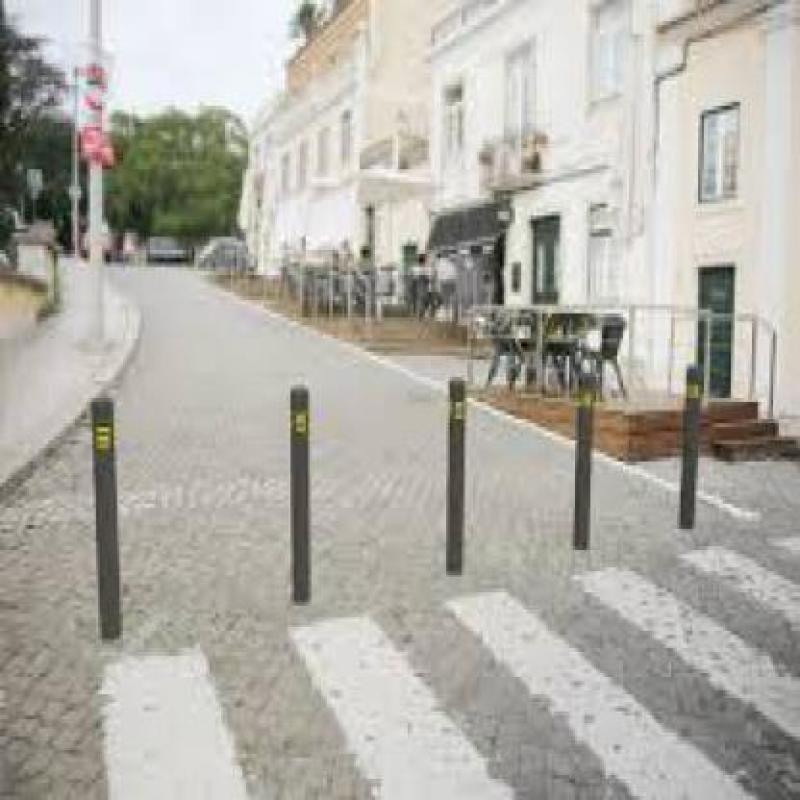bolard: (84, 367, 132, 630), (664, 338, 718, 562), (286, 384, 326, 604), (431, 377, 470, 571), (558, 364, 597, 520)
